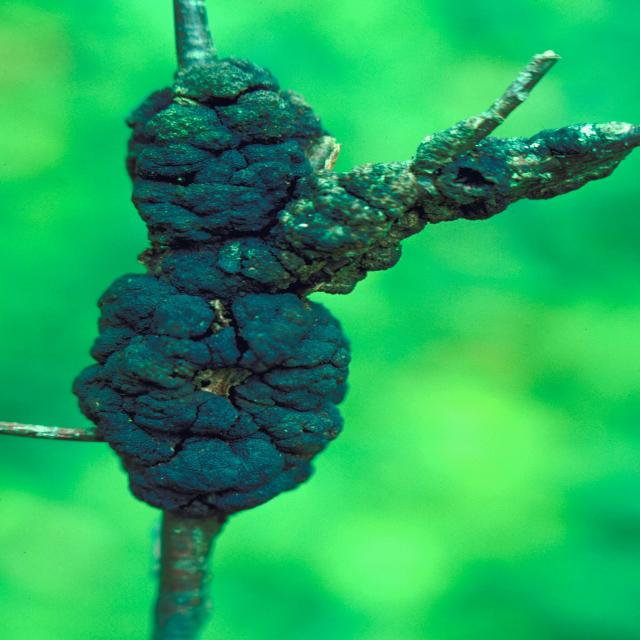Black_knot: (70, 1, 637, 522), (72, 272, 352, 520)
